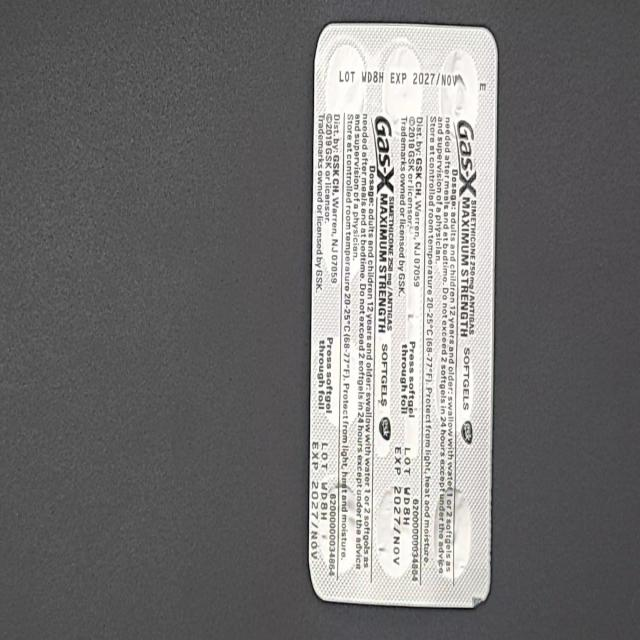no defect: (7, 11, 29, 54)
